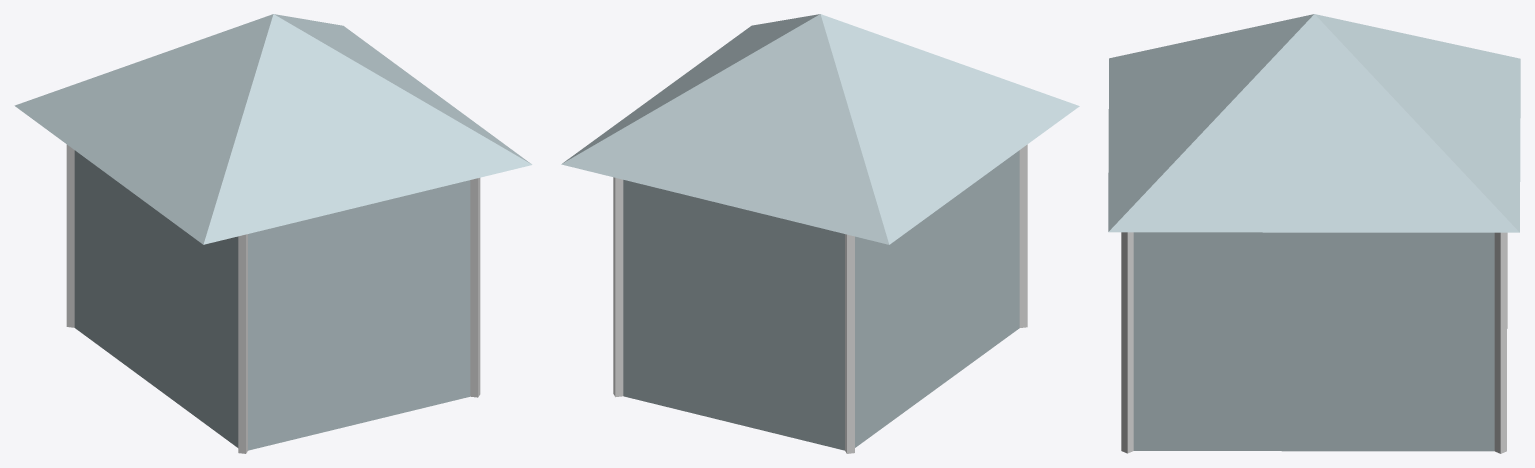
File: greenhouse.glb
The picture shows the model from 3 angles, left to right: view 1: azimuth 30°, elevation 25°; view 2: azimuth 150°, elevation 25°; view 3: azimuth 270°, elevation 25°; orthographic projection. The views are drawn at different scales.
Parts seen in each view (by area): view 1: Greenhouse.001; view 2: Greenhouse.001; view 3: Greenhouse.001.
Boxes of the visible parts, x1,y1,x2,y2 form: Greenhouse.001: (14, 14, 532, 453); Greenhouse.001: (561, 14, 1079, 453); Greenhouse.001: (1108, 14, 1520, 453).
Bounding box in the file's own units: 1.99 × 2 × 1.99.
